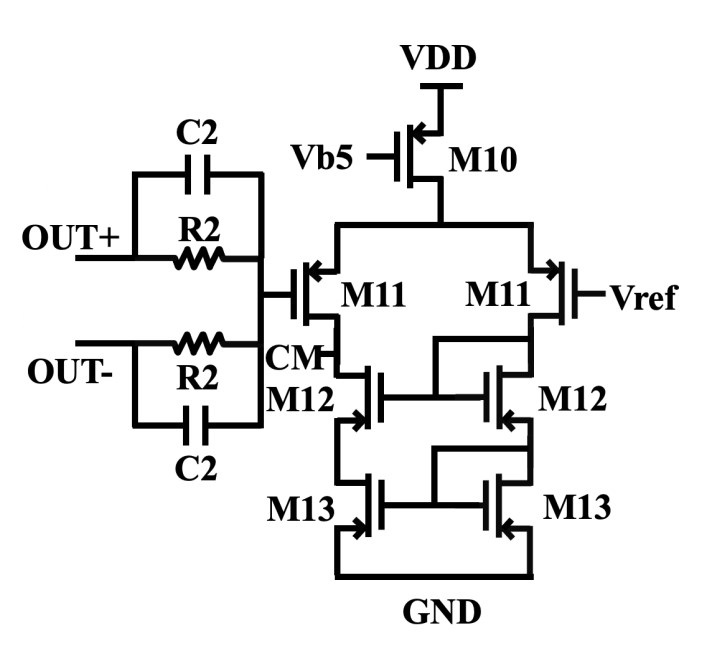capacity: (178, 149, 223, 199), (177, 398, 215, 449)
pmos: (513, 247, 586, 331), (473, 353, 545, 437), (385, 113, 457, 195), (322, 461, 391, 545), (475, 466, 543, 547), (281, 252, 350, 331), (326, 363, 394, 440)
resistor: (160, 236, 232, 278), (158, 323, 235, 360)
